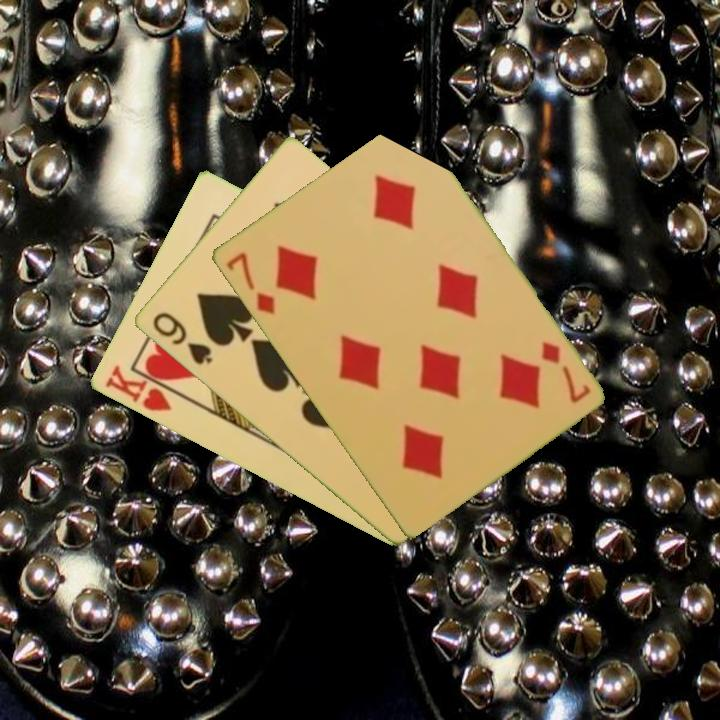7d: (221, 248, 278, 318), (537, 337, 593, 406)
9s: (148, 308, 215, 368)
Kh: (100, 361, 186, 415)
